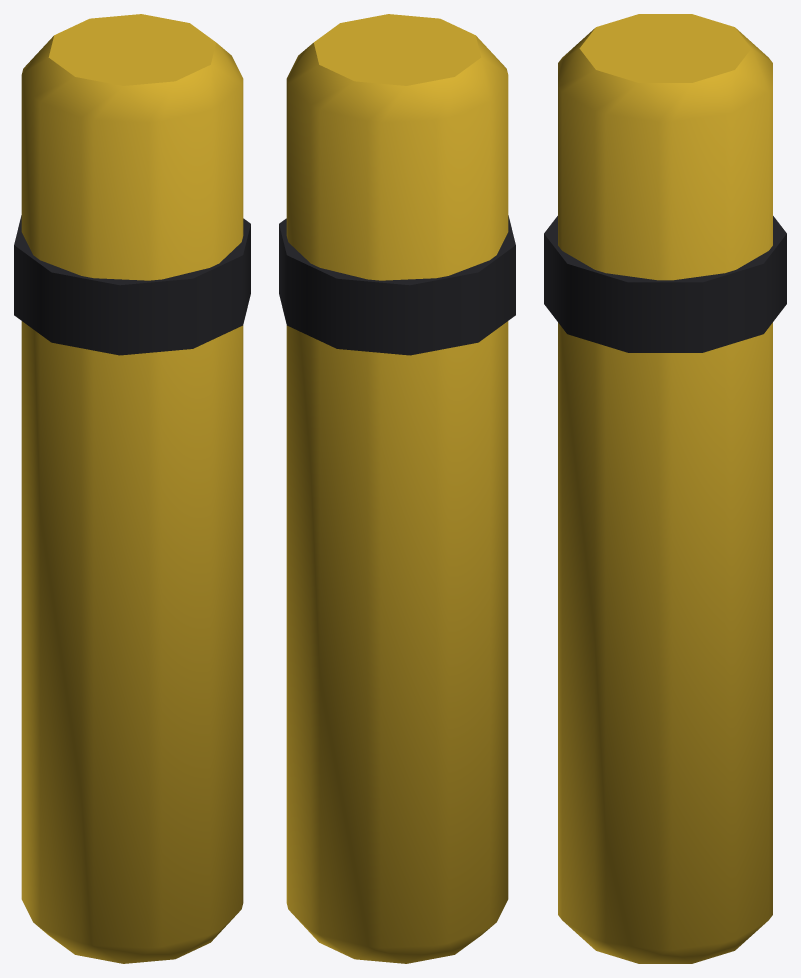
Rendered from Bollard.fbx.
3 views of the same model, side by side, from view 1: azimuth 30°, elevation 25°; view 2: azimuth 150°, elevation 25°; view 3: azimuth 270°, elevation 25° (orthographic).
Parts seen in each view (by area): view 1: Bollard; view 2: Bollard; view 3: Bollard.
Part boxes in pixels (x1,y1,x2,y2): Bollard: [14, 14, 250, 963]; Bollard: [279, 14, 515, 963]; Bollard: [544, 14, 786, 963].
Bounding box in the file's own units: 0.2378 × 1 × 0.25.
